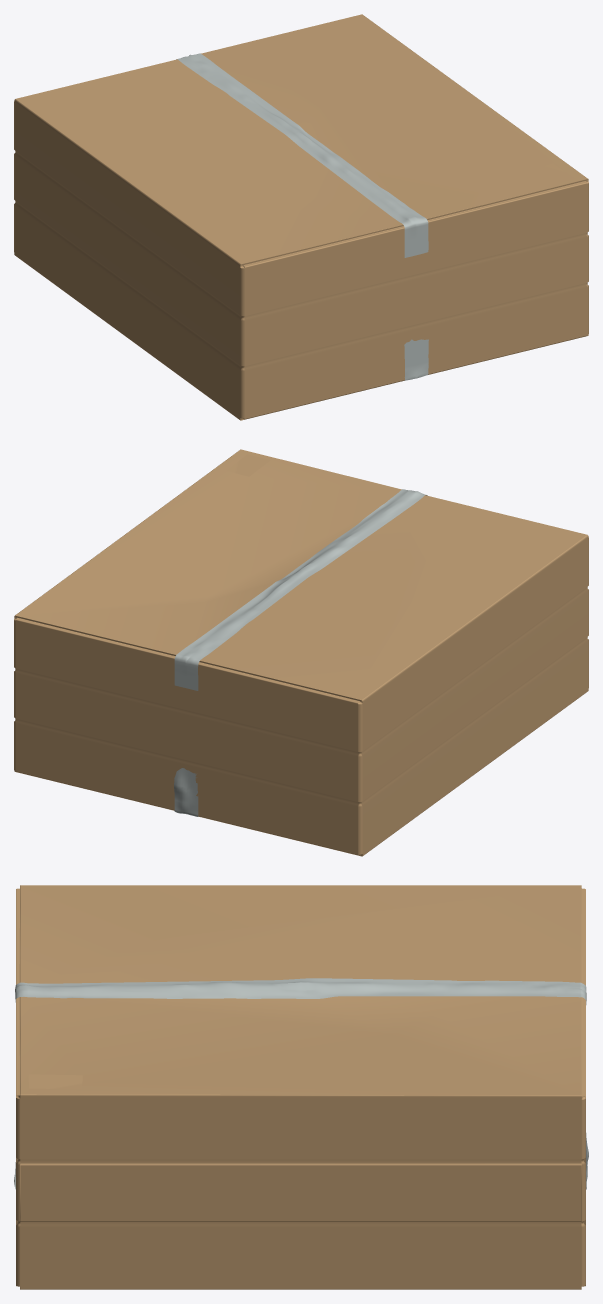
The model's file is box_multiDepth_a08.glb.
The picture shows the model from 3 angles, top to bottom: view 1: azimuth 30°, elevation 25°; view 2: azimuth 150°, elevation 25°; view 3: azimuth 270°, elevation 25°; orthographic projection. The views are drawn at different scales.
Size of the model in its own units: 0.3558 by 0.1606 by 0.4091.
